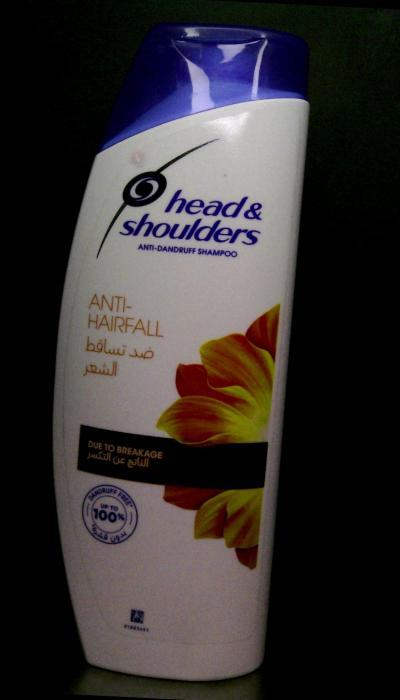tear_unacc: (115, 146, 160, 174)
